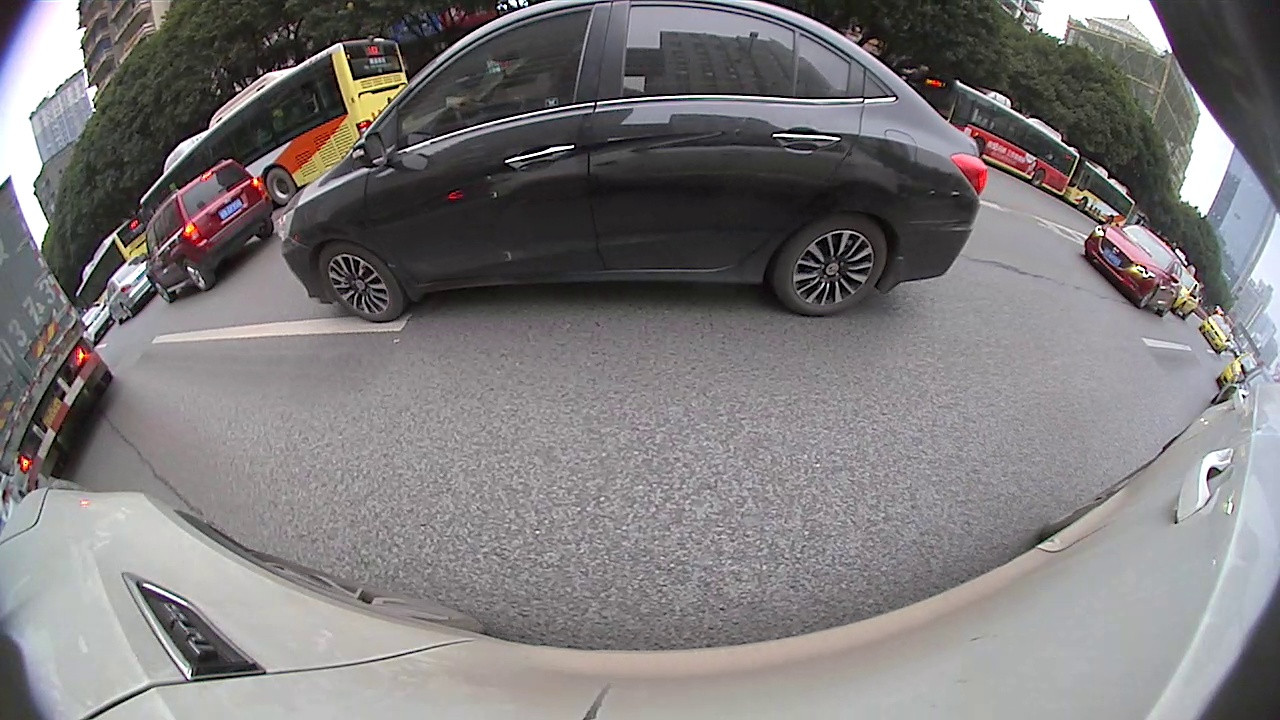bus: (138, 36, 408, 212), (933, 79, 1081, 200), (73, 213, 154, 318), (1062, 157, 1137, 234)
car: (277, 3, 990, 324), (141, 157, 277, 303), (1083, 221, 1186, 320), (104, 253, 161, 326), (1170, 268, 1203, 323), (1199, 313, 1236, 358)
front: (318, 241, 404, 320), (154, 280, 172, 303), (1137, 289, 1155, 309), (1074, 195, 1089, 212)
rear: (770, 214, 888, 316), (266, 167, 297, 203), (183, 261, 216, 292), (119, 300, 136, 318), (1030, 169, 1045, 188)
truck: (1, 178, 113, 523)
